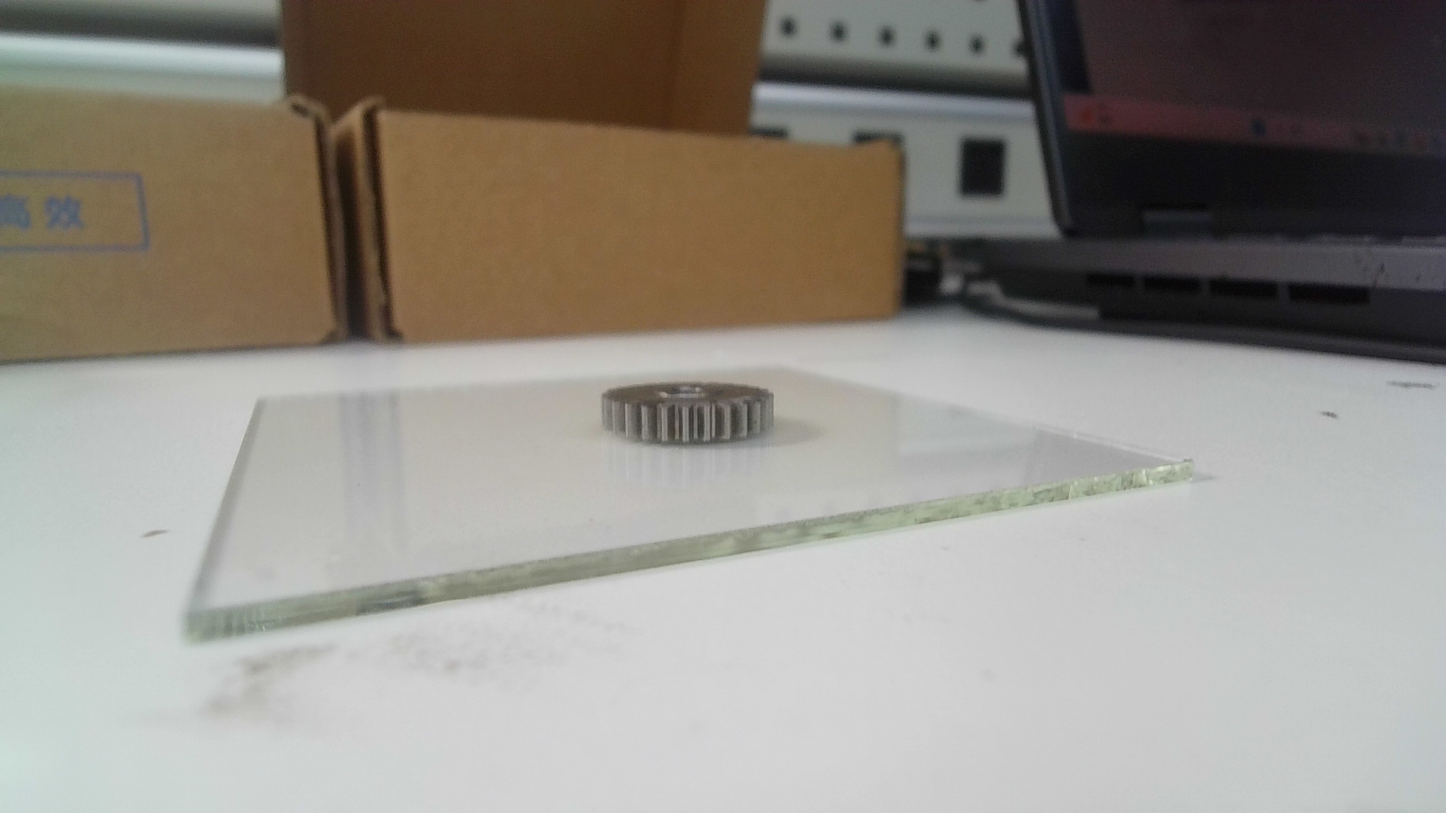gear: (597, 378, 779, 448)
